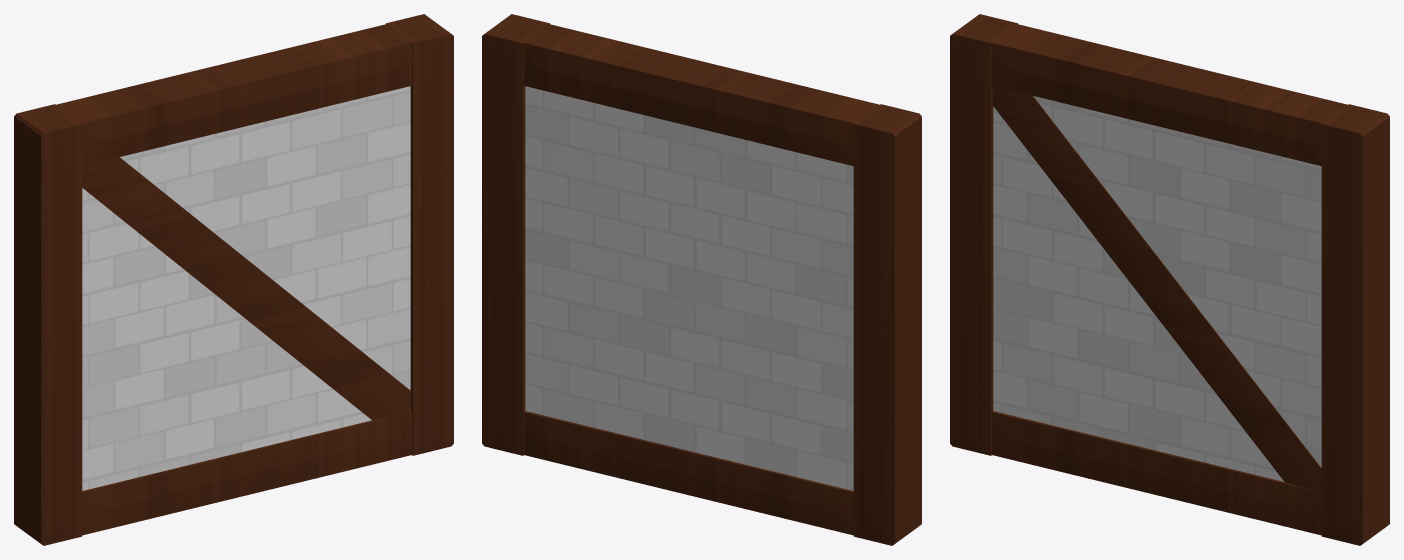
Rendered from Wall_L_Slash_Brick.fbx.
3 renders of one model, left to right at view 1: azimuth 30°, elevation 25°; view 2: azimuth 150°, elevation 25°; view 3: azimuth 330°, elevation 25°, orthographic.
Parts seen in each view (by area): view 1: Wall_L_Slash; view 2: Wall_L_Slash; view 3: Wall_L_Slash.
Part boxes in pixels (left/top/right/bottom): Wall_L_Slash: left=14, top=14, right=453, bottom=545; Wall_L_Slash: left=482, top=14, right=921, bottom=545; Wall_L_Slash: left=950, top=14, right=1389, bottom=545.
Bounding box in the file's own units: 212 × 202 × 26.17.
